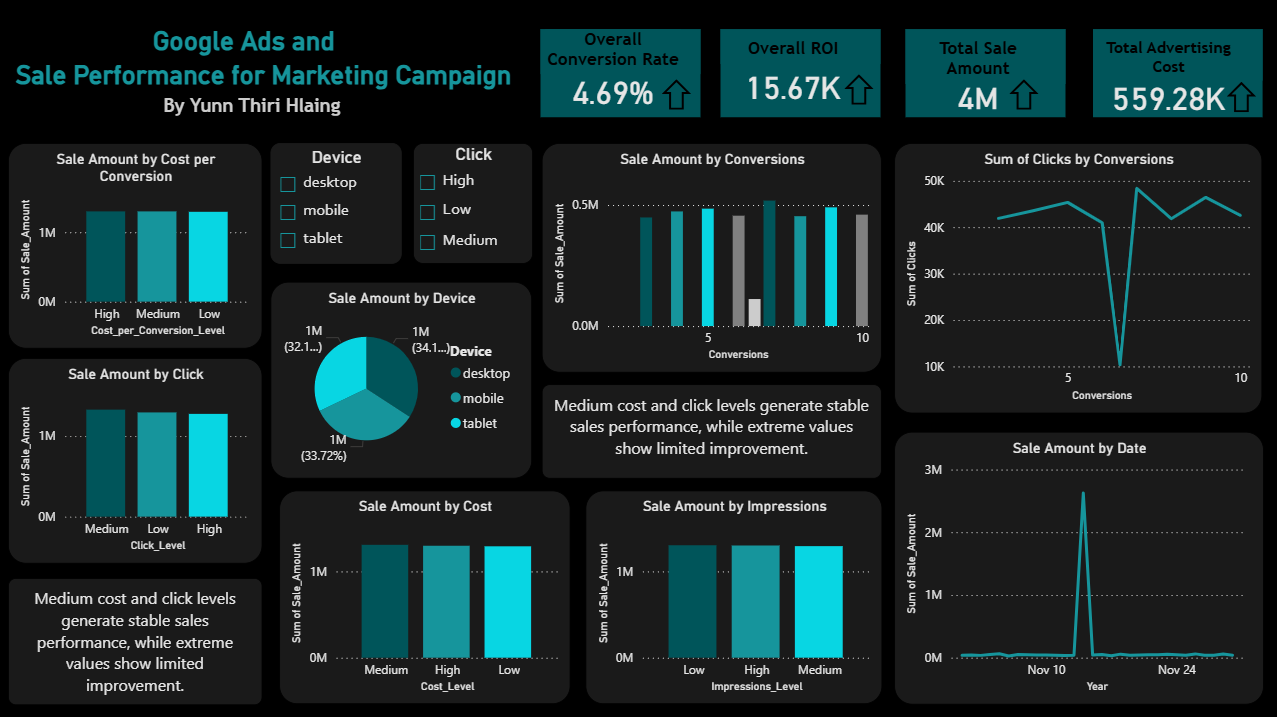

The page's visual inventory and layout, read from the dashboard file:
{"tool":"powerbi","page":{"name":"Overall","canvas":[1280,720],"ordinal":0},"visuals":[{"type":"textbox","title":" Google Ads and","box":[149.5,28.1,207.5,33.8],"z":0},{"type":"textbox","title":"By Yunn Thiri Hlaing","box":[113.2,96.8,280,23.8],"z":1000},{"type":"textbox","title":"Sale Performance for Marketing Campaign","box":[12,61.8,507.5,35],"z":2000},{"type":"lineChart","title":"Sale Amount by Date","fields":{"Category":["Google_Ads_Cleaned.Ad_Date.Variation.Date Hierarchy.Year","Google_Ads_Cleaned.Ad_Date.Variation.Date Hierarchy.Quarter","Google_Ads_Cleaned.Ad_Date.Variation.Date Hierarchy.Month","Google_Ads_Cleaned.Ad_Date.Variation.Date Hierarchy.Day"],"Y":["Google_Ads_Cleaned.Sale_Amount"]},"box":[896.3,434.1,369.3,272.7],"z":3000},{"type":"card","title":"Overall Conversion Rate","fields":{"Values":["Google_Ads_Cleaned.Conversion Rate1"]},"box":[542.9,31.8,160.2,88],"z":4000},{"type":"pieChart","title":"Sale Amount by Device","fields":{"Category":["Google_Ads_Cleaned.Device"],"Y":["Google_Ads_Cleaned.Sale_Amount"]},"box":[272.7,283.7,261.7,196.9],"z":5000},{"type":"lineChart","fields":{"Y":["Google_Ads_Cleaned.Clicks"],"Category":["Google_Ads_Cleaned.Conversions"]},"box":[896.3,145.2,368.1,270.2],"z":6000},{"type":"shape","box":[664,80.7,29.3,30.6],"z":7000},{"type":"clusteredColumnChart","title":"Sale Amount by Cost per Conversion","fields":{"Category":["Google_Ads_Cleaned.Cost_per_Conversion_Level"],"Y":["Google_Ads_Cleaned.Sale_Amount"]},"box":[9.8,145.5,254.3,205.4],"z":8000},{"type":"clusteredColumnChart","title":"Sale Amount by Click","fields":{"Category":["Google_Ads_Cleaned.Click_Level"],"Y":["Google_Ads_Cleaned.Sale_Amount"]},"box":[9.8,359.5,254.3,205.4],"z":9000},{"type":"clusteredColumnChart","title":"Sale Amount by Cost","fields":{"Y":["Google_Ads_Cleaned.Sale_Amount"],"Category":["Google_Ads_Cleaned.Cost_Level"]},"box":[281.3,492.8,291,214],"z":10000},{"type":"clusteredColumnChart","title":"Sale Amount by Conversions","fields":{"Y":["Google_Ads_Cleaned.Sale_Amount"],"Category":["Google_Ads_Cleaned.Conversions"]},"box":[544.2,145.5,339.9,229.9],"z":11000},{"type":"clusteredColumnChart","title":"Sale Amount by Impressions","fields":{"Y":["Google_Ads_Cleaned.Sale_Amount"],"Category":["Google_Ads_Cleaned.Impressions_Level"]},"box":[587,492.8,297.1,214],"z":12000},{"type":"listSlicer","title":"Click","fields":{"Values":["Google_Ads_Cleaned.Click_Level"]},"box":[414.5,145.5,119.8,121.1],"z":13000},{"type":"textbox","box":[544.2,386.4,339.9,94.2],"z":14000},{"type":"card","title":"Overall ROI","fields":{"Values":["Google_Ads_Cleaned.ROI"]},"box":[722.7,31.8,160.2,88],"z":15000},{"type":"card","title":"Total Sale Amount","fields":{"Values":["Google_Ads_Cleaned.Sale_Amount"]},"box":[907.3,31.8,160.2,88],"z":16000},{"type":"card","title":"Total Advertising Cost","fields":{"Values":["Google_Ads_Cleaned.Cost"]},"box":[1094.4,31.8,170,88],"z":17000},{"type":"shape","box":[846.2,75.8,29.3,30.6],"z":18000},{"type":"shape","box":[1011.3,80.7,29.3,30.6],"z":19000},{"type":"shape","box":[1228.9,83.2,29.3,30.6],"z":20000},{"type":"listSlicer","fields":{"Values":["Google_Ads_Cleaned.Device"]},"box":[272.7,145.5,130.8,121.1],"z":21000},{"type":"textbox","box":[9.8,579.6,254.3,127.2],"z":22000}]}

Visuals, with their boxes in screenshot pixels (x1, y1, x2, y2), scaled from the page's 1280x720 canvas onto the 1277x717 screenshot:
" Google Ads and" textbox: (left=149, top=28, right=356, bottom=62)
"By Yunn Thiri Hlaing" textbox: (left=113, top=96, right=392, bottom=120)
"Sale Performance for Marketing Campaign" textbox: (left=12, top=62, right=518, bottom=96)
"Sale Amount by Date" lineChart: (left=894, top=432, right=1263, bottom=704)
"Overall Conversion Rate" card: (left=542, top=32, right=701, bottom=119)
"Sale Amount by Device" pieChart: (left=272, top=283, right=533, bottom=479)
lineChart - Google_Ads_Cleaned.Clicks x Google_Ads_Cleaned.Conversions: (left=894, top=145, right=1261, bottom=414)
shape: (left=662, top=80, right=692, bottom=111)
"Sale Amount by Cost per Conversion" clusteredColumnChart: (left=10, top=145, right=263, bottom=349)
"Sale Amount by Click" clusteredColumnChart: (left=10, top=358, right=263, bottom=563)
"Sale Amount by Cost" clusteredColumnChart: (left=281, top=491, right=571, bottom=704)
"Sale Amount by Conversions" clusteredColumnChart: (left=543, top=145, right=882, bottom=374)
"Sale Amount by Impressions" clusteredColumnChart: (left=586, top=491, right=882, bottom=704)
"Click" listSlicer: (left=414, top=145, right=533, bottom=265)
textbox: (left=543, top=385, right=882, bottom=479)
"Overall ROI" card: (left=721, top=32, right=881, bottom=119)
"Total Sale Amount" card: (left=905, top=32, right=1065, bottom=119)
"Total Advertising Cost" card: (left=1092, top=32, right=1261, bottom=119)
shape: (left=844, top=75, right=873, bottom=106)
shape: (left=1009, top=80, right=1038, bottom=111)
shape: (left=1226, top=83, right=1255, bottom=113)
listSlicer - Google_Ads_Cleaned.Device: (left=272, top=145, right=403, bottom=265)
textbox: (left=10, top=577, right=263, bottom=704)
